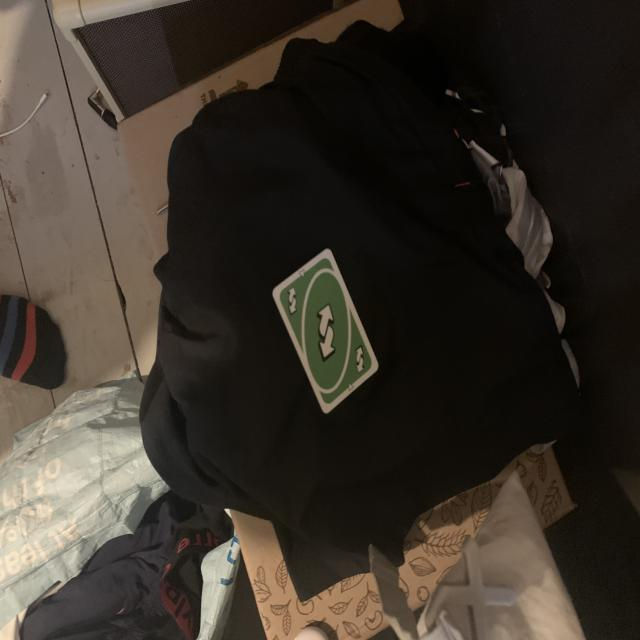lgreenrevers-20: (283, 285, 302, 316)
